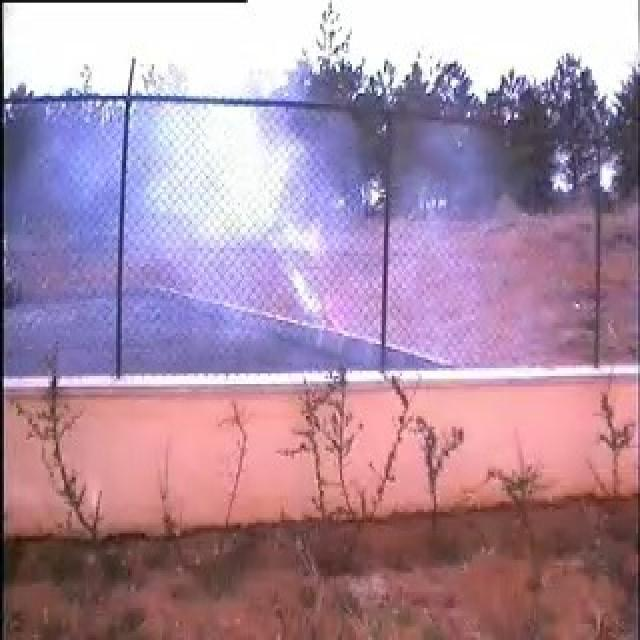Smoke: (32, 104, 357, 366)
